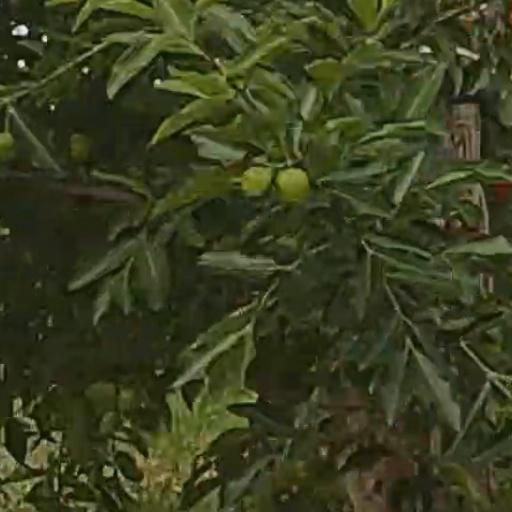acerola_verde: (276, 168, 309, 200), (241, 165, 268, 193)
